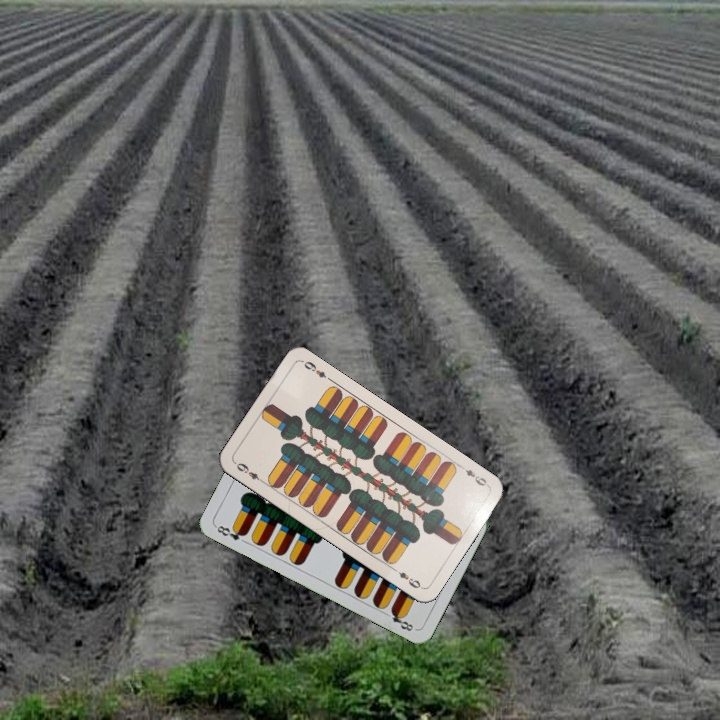E8: (213, 521, 249, 543)
E9: (231, 458, 267, 486), (456, 461, 492, 489)
